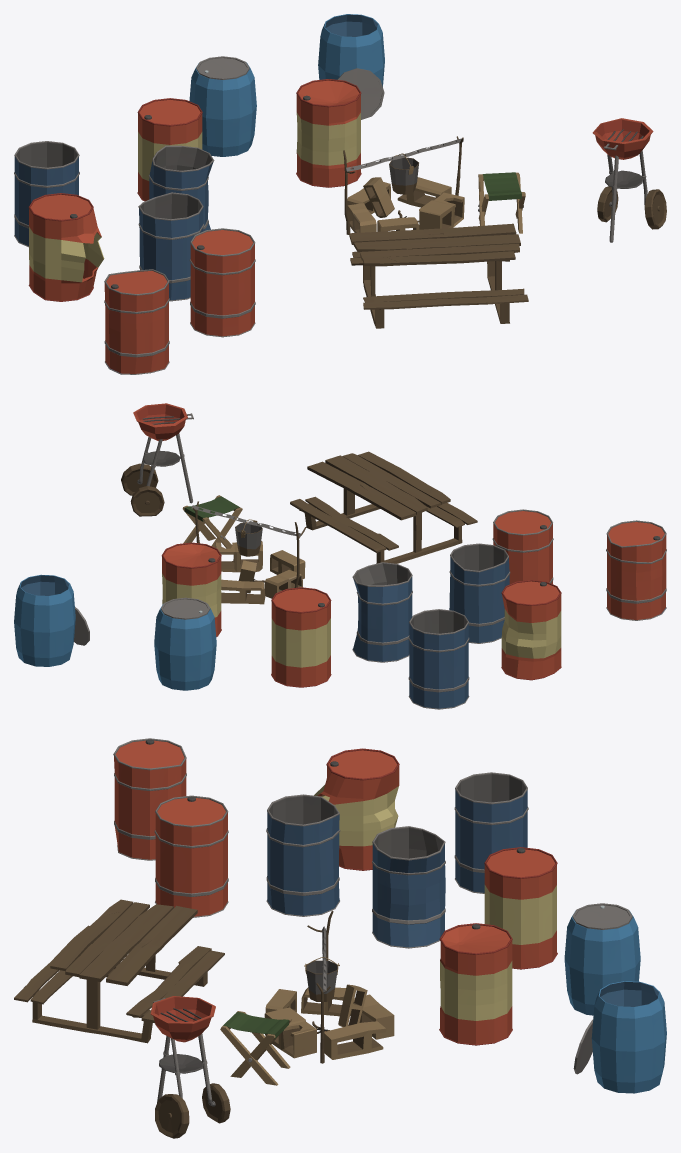
Rendered from camping_asset.fbx.
The picture shows the model from 3 angles, top to bottom: view 1: azimuth 30°, elevation 25°; view 2: azimuth 150°, elevation 25°; view 3: azimuth 270°, elevation 25°; orthographic projection. The views are drawn at different scales.
Parts seen in each view (by area): view 1: table, Metal_red_gray_barrel.001, Metal_red_gray_barrel, Metal_red_gray_barrel.003, Metal_red_gray_barrel.004, Metal_blue_barrel.001, bricks, Plastic_blue_barrel.001, Grill, Metal_blue_barrel, Plastic_blue_barrel, Metal_red_gray_barrel.002 (+6 smaller); view 2: table, Metal_blue_barrel, Metal_red_gray_barrel.002, Metal_red_gray_barrel.004, Metal_red_gray_barrel.001, Metal_blue_barrel.002, Plastic_blue_barrel, Metal_blue_barrel.001, Plastic_blue_barrel.001, Grill, Metal_red_gray_barrel, Metal_red_gray_barrel.003 (+4 smaller); view 3: table, Metal_red_gray_barrel.003, Metal_blue_barrel.002, Metal_blue_barrel.001, Metal_red_gray_barrel, Plastic_blue_barrel, Metal_red_gray_barrel.002, Metal_red_gray_barrel.001, Metal_blue_barrel, Metal_red_gray_barrel.004, bricks, Grill (+5 smaller).
Part boxes in pixels (bbox=[...]): table: bbox=[349, 223, 528, 328]; Metal_red_gray_barrel.001: bbox=[28, 193, 104, 301]; Metal_red_gray_barrel: bbox=[189, 228, 255, 337]; Metal_red_gray_barrel.003: bbox=[296, 79, 361, 187]; Metal_red_gray_barrel.004: bbox=[104, 269, 169, 374]; Metal_blue_barrel.001: bbox=[138, 192, 204, 301]; bricks: bbox=[347, 177, 464, 232]; Plastic_blue_barrel.001: bbox=[189, 62, 256, 156]; Grill: bbox=[592, 118, 666, 242]; Metal_blue_barrel: bbox=[14, 141, 79, 247]; Plastic_blue_barrel: bbox=[318, 14, 384, 86]; Metal_red_gray_barrel.002: bbox=[137, 98, 202, 201]; table: bbox=[290, 451, 477, 563]; Metal_blue_barrel: bbox=[408, 609, 469, 709]; Metal_red_gray_barrel.002: bbox=[271, 587, 331, 687]; Metal_red_gray_barrel.004: bbox=[606, 520, 666, 620]; Metal_red_gray_barrel.001: bbox=[501, 580, 561, 680]; Metal_blue_barrel.002: bbox=[352, 562, 412, 662]; Plastic_blue_barrel: bbox=[14, 574, 75, 666]; Metal_blue_barrel.001: bbox=[449, 543, 510, 643]; Plastic_blue_barrel.001: bbox=[154, 604, 216, 690]; Grill: bbox=[121, 403, 193, 516]; Metal_red_gray_barrel: bbox=[492, 509, 553, 584]; Metal_red_gray_barrel.003: bbox=[161, 542, 221, 636]; table: bbox=[14, 899, 224, 1043]; Metal_red_gray_barrel.003: bbox=[439, 923, 512, 1045]; Metal_blue_barrel.002: bbox=[372, 826, 445, 948]; Metal_blue_barrel.001: bbox=[266, 794, 340, 916]; Metal_red_gray_barrel: bbox=[154, 795, 228, 917]; Plastic_blue_barrel: bbox=[591, 981, 666, 1093]; Metal_red_gray_barrel.002: bbox=[484, 847, 557, 969]; Metal_red_gray_barrel.001: bbox=[314, 748, 399, 870]; Metal_blue_barrel: bbox=[454, 772, 528, 893]; Metal_red_gray_barrel.004: bbox=[113, 738, 186, 860]; bricks: bbox=[264, 984, 394, 1059]; Grill: bbox=[150, 996, 230, 1138].
Bounding box in the file's own units: 1488 × 247 × 1309.
